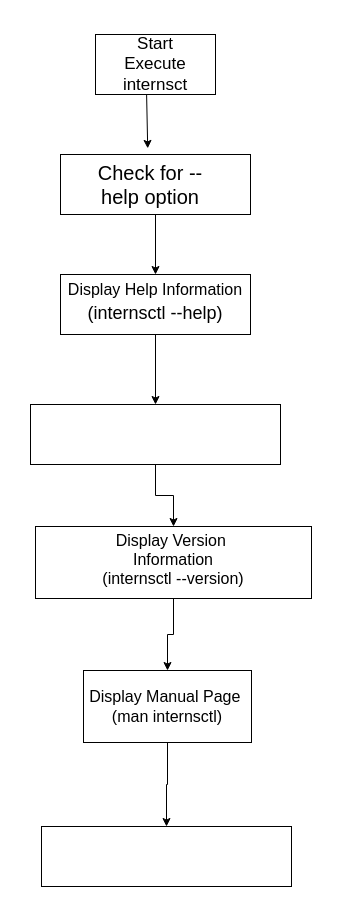
This 346x904 diagram has some shape labels left out. The shapes that lost their labels are listed below. From the top down, each one's centre as x and y in pixels, then its label:
At point (155, 434): "Check for --version".
At point (166, 856): "End Execution Complete".
